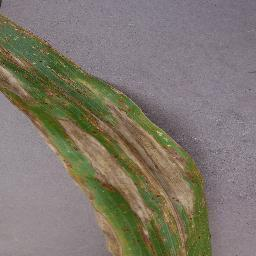Corn_Blight: (85, 83, 213, 256), (51, 47, 87, 179), (1, 14, 48, 104), (14, 105, 51, 137), (87, 73, 106, 80)
